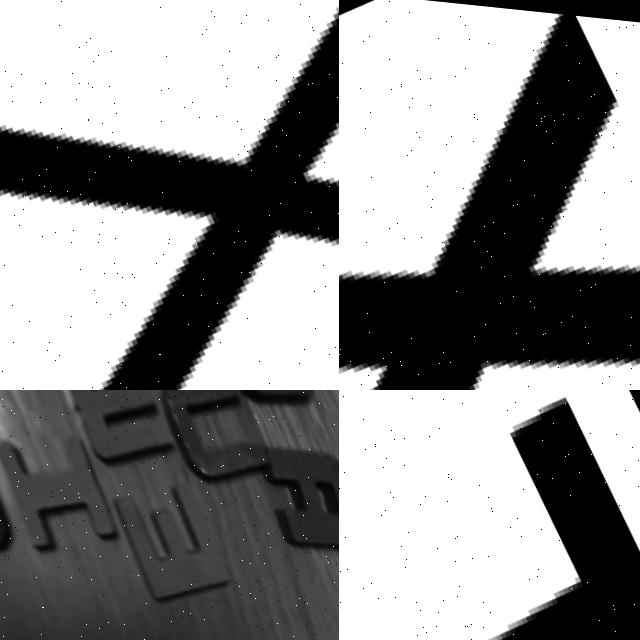A: (254, 409, 339, 571)
E: (104, 451, 251, 621)
G: (0, 416, 37, 583)
I: (0, 417, 130, 563)
T: (339, 390, 640, 640)
U: (148, 390, 289, 495)
W: (49, 390, 185, 478)
X: (0, 0, 339, 390), (339, 0, 640, 390)
